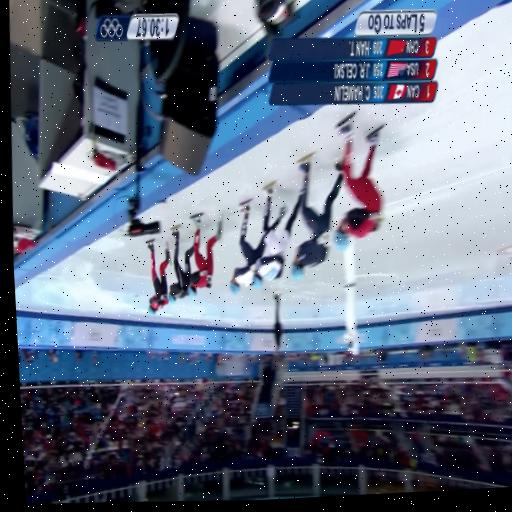Skater: (333, 113, 382, 249), (291, 153, 341, 278), (250, 180, 299, 288), (229, 200, 265, 293), (188, 213, 222, 295), (168, 224, 193, 302), (146, 239, 170, 313)
